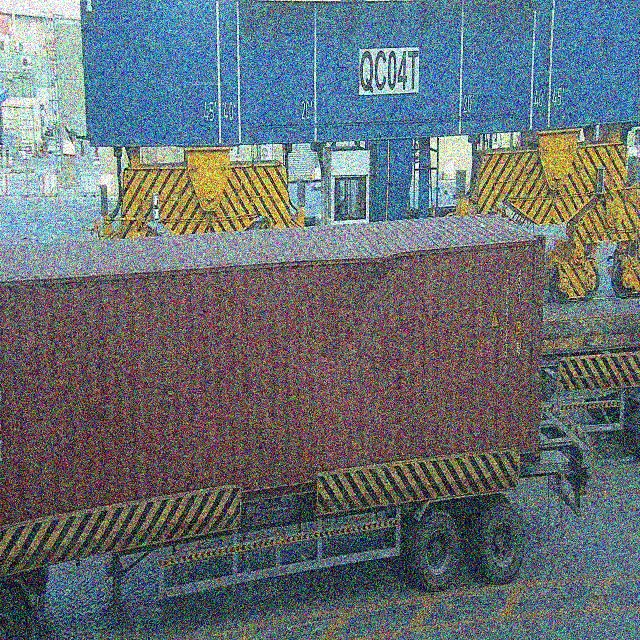Dent: (295, 324, 345, 378)
Hole: (340, 240, 414, 314)
